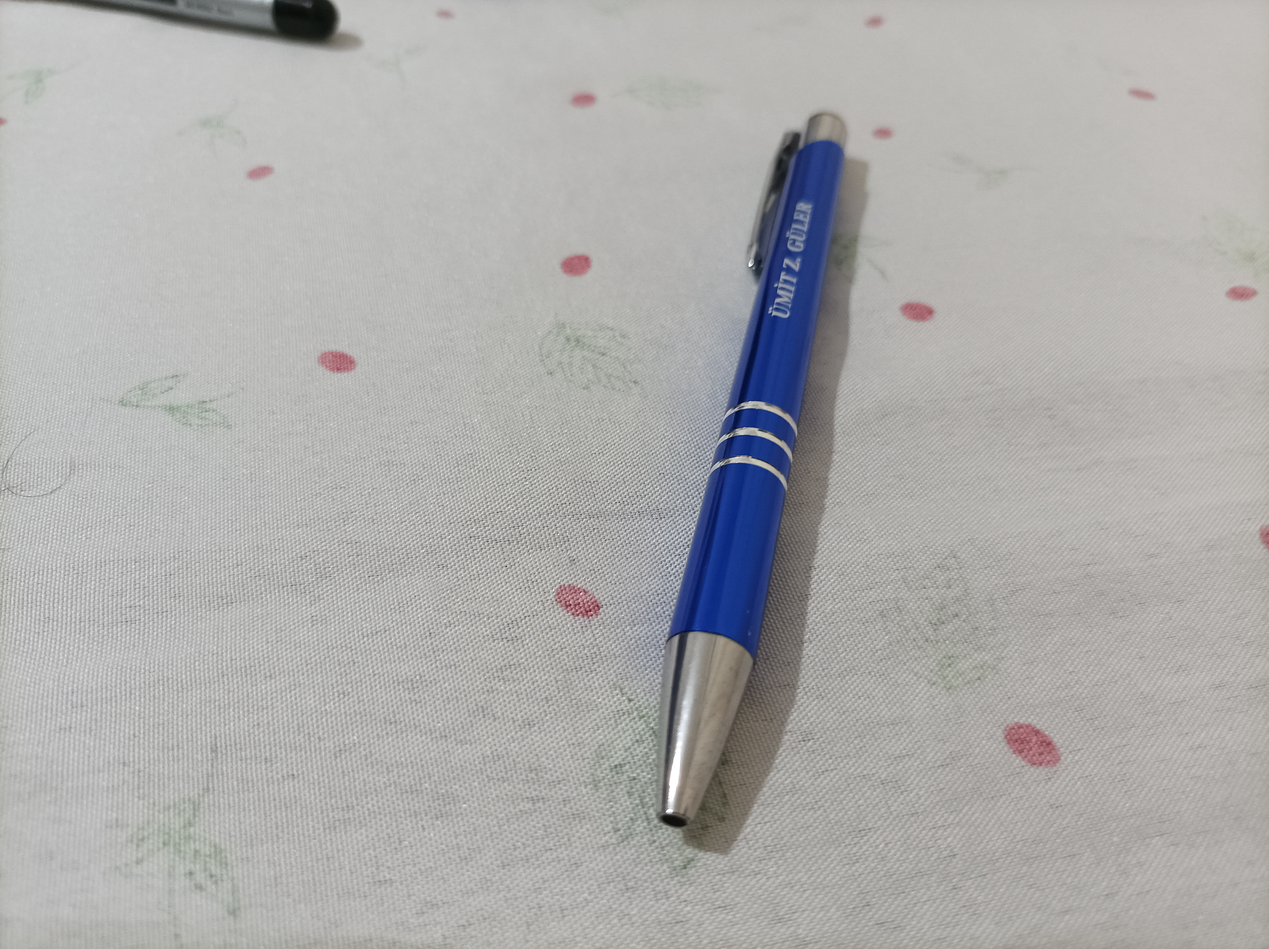plastic: (651, 114, 851, 856)
